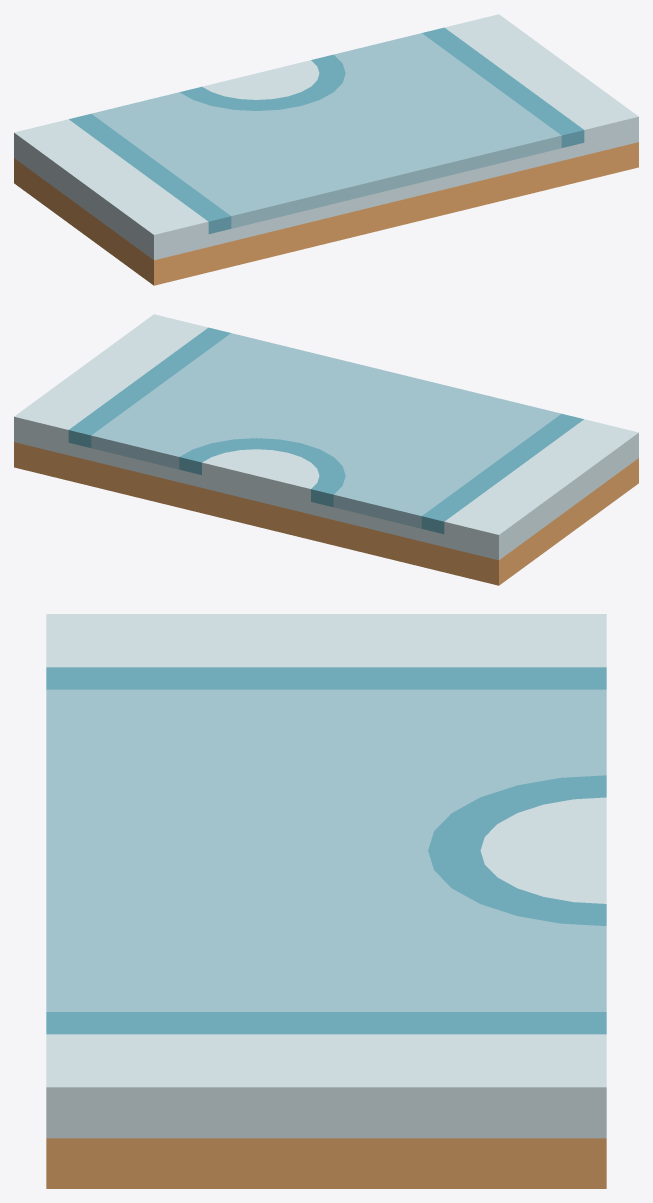
File: snow_tile_wideSplit(+).fbx
3 renders of one model, top to bottom at view 1: azimuth 30°, elevation 25°; view 2: azimuth 150°, elevation 25°; view 3: azimuth 270°, elevation 25°, orthographic. The views are drawn at different scales.
Visible parts, largest first — view 1: Mesh_1.002; view 2: Mesh_1.002; view 3: Mesh_1.002.
Boxes of the visible parts, <box> form: Mesh_1.002: <box>14,14,638,285</box>; Mesh_1.002: <box>14,314,638,585</box>; Mesh_1.002: <box>46,614,606,1188</box>.
Bounding box in the file's own units: 200 × 20 × 100.
